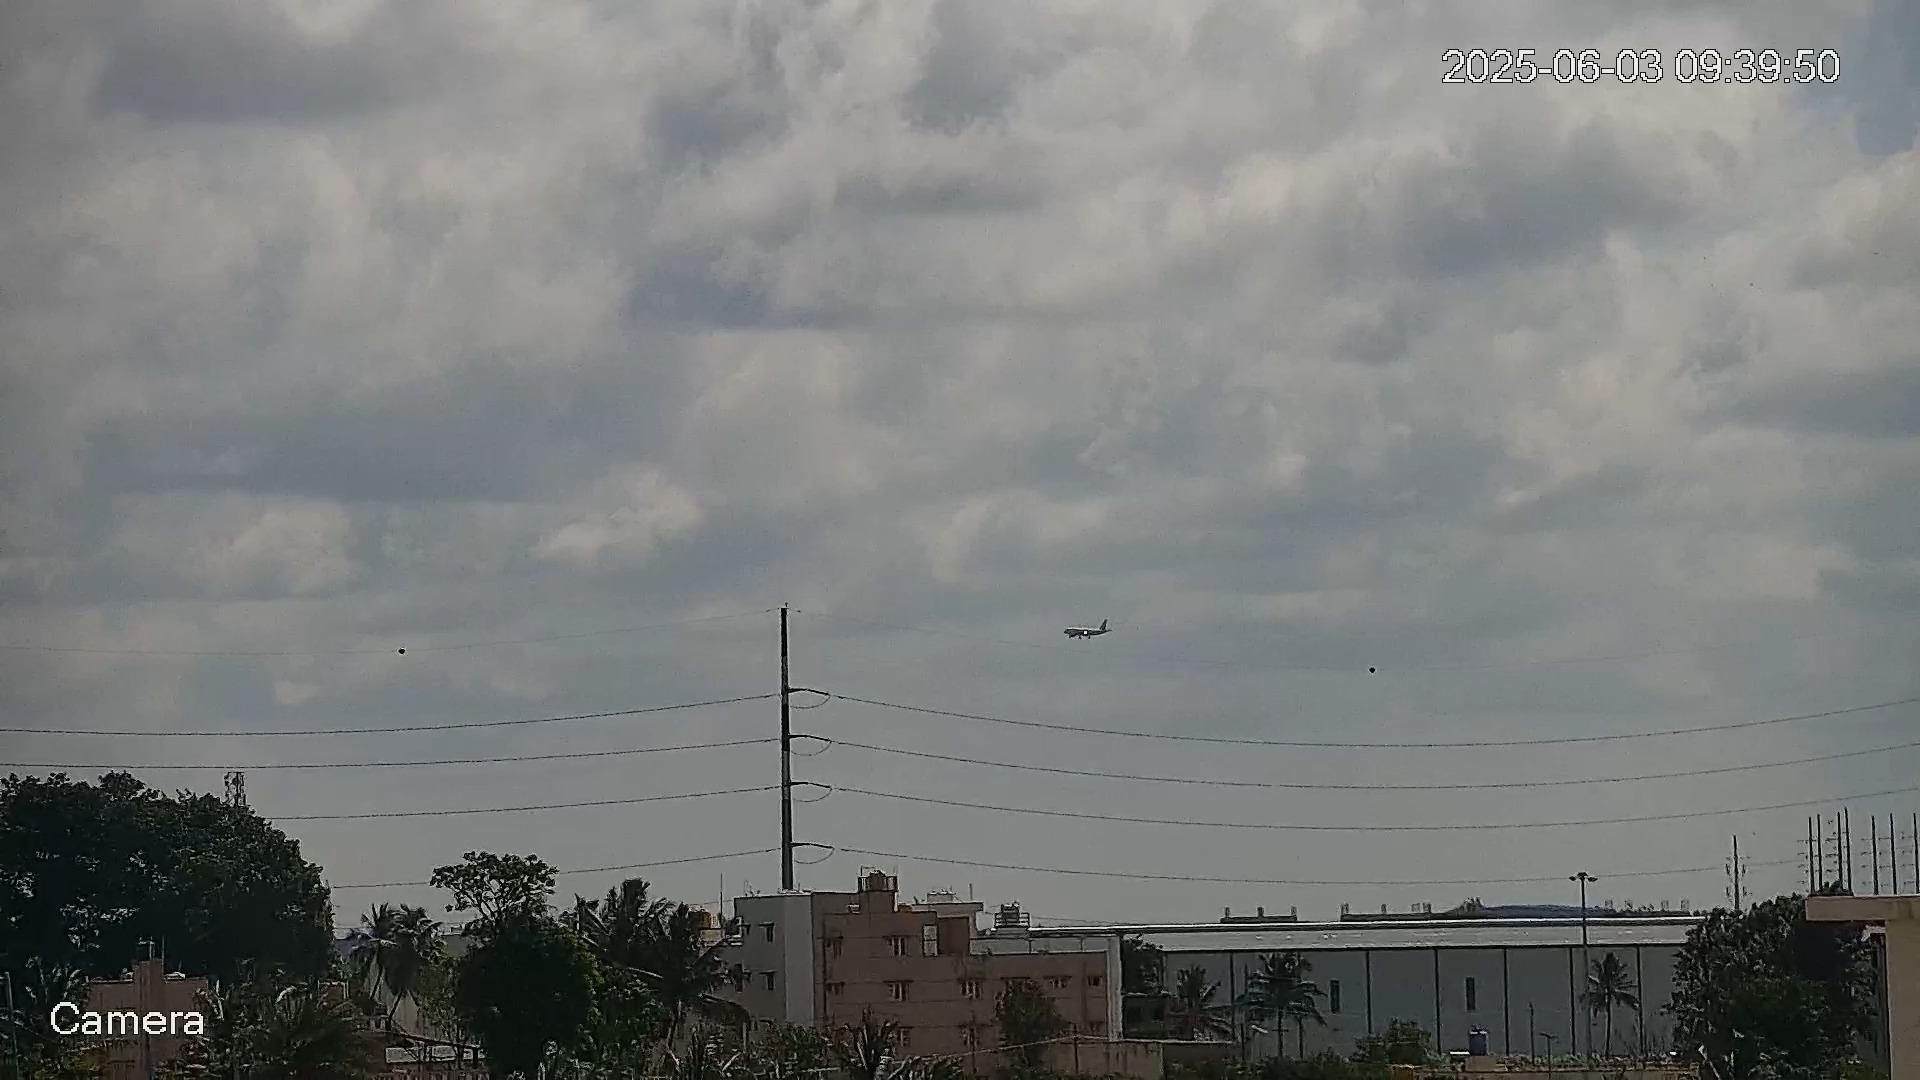Aircraft: (1062, 618, 1112, 640)
